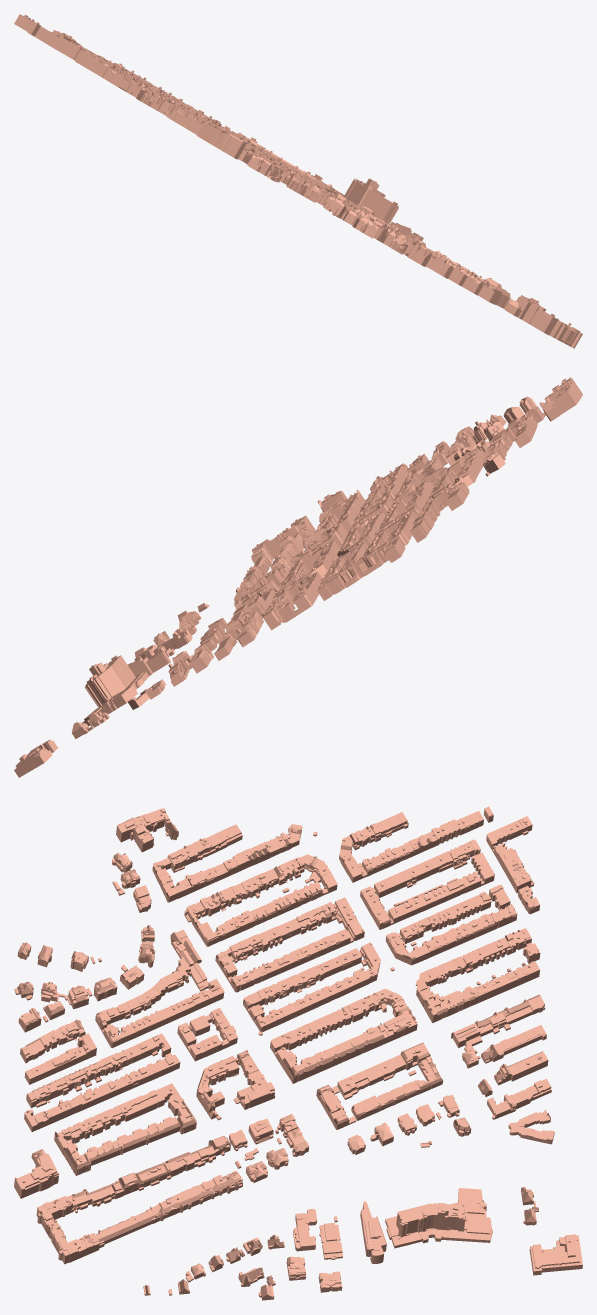
3 views of the same model, one above another, from view 1: azimuth 30°, elevation 25°; view 2: azimuth 150°, elevation 25°; view 3: azimuth 270°, elevation 25° (orthographic). The views are drawn at different scales.
Bounding box in the file's own units: 1.71e+07 × 1.31e+07 × 2.14e+07.
